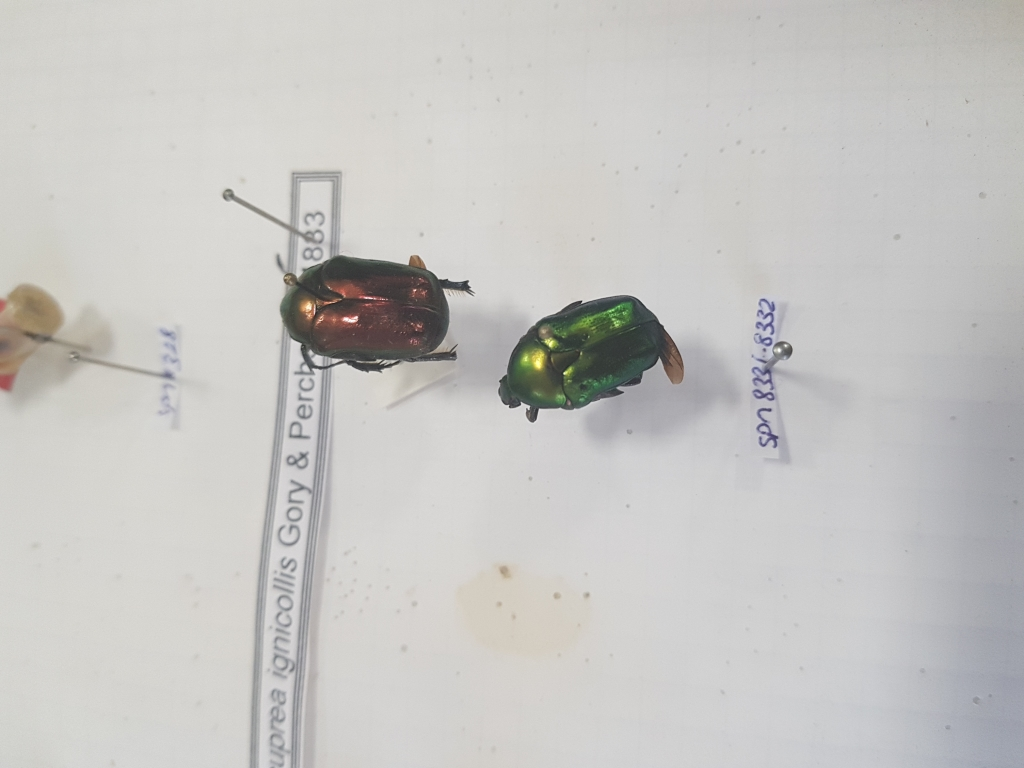Protaetia_cuprea_ignicollis: (494, 280, 688, 426), (261, 257, 492, 375)
